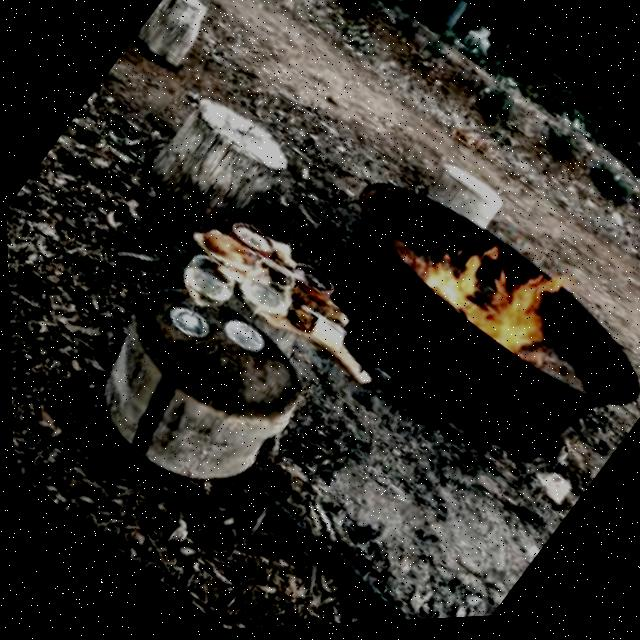Fire: (388, 188, 585, 375)
